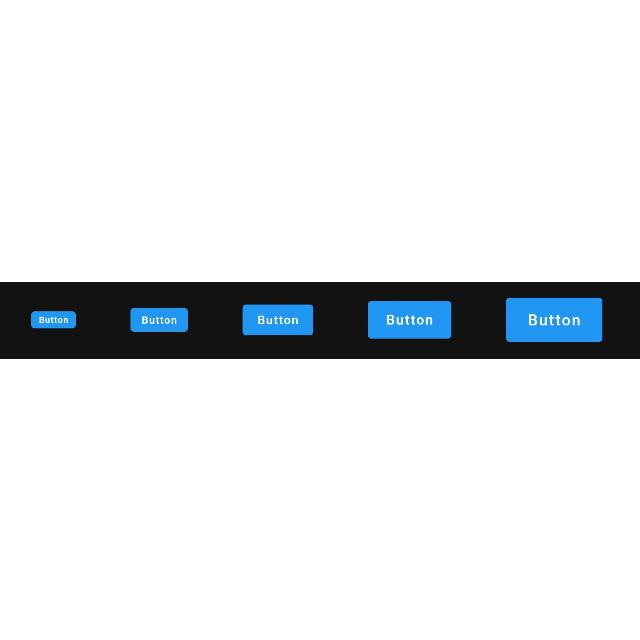QLabel: (526, 313, 582, 325), (386, 314, 434, 324), (257, 314, 301, 324), (142, 315, 178, 323), (38, 316, 70, 322)
VBtn: (504, 295, 604, 343), (367, 298, 453, 339), (242, 302, 314, 336), (130, 306, 188, 332), (30, 310, 76, 328)
